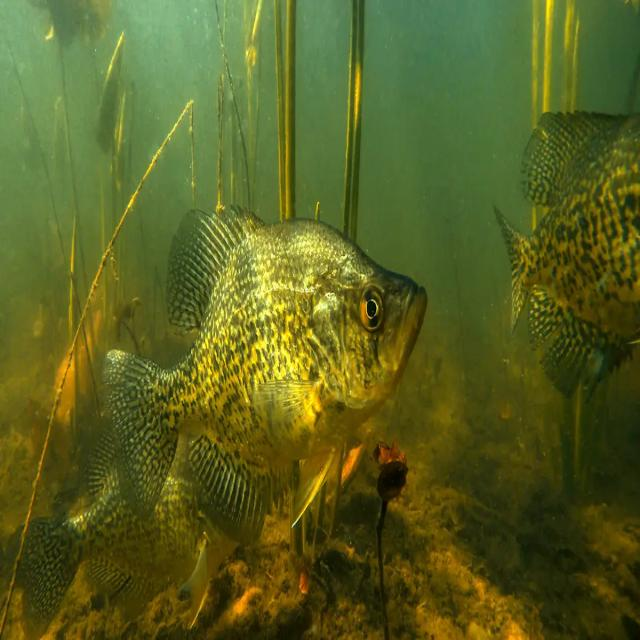Crappie - Black: (104, 209, 428, 542), (495, 111, 640, 396)
